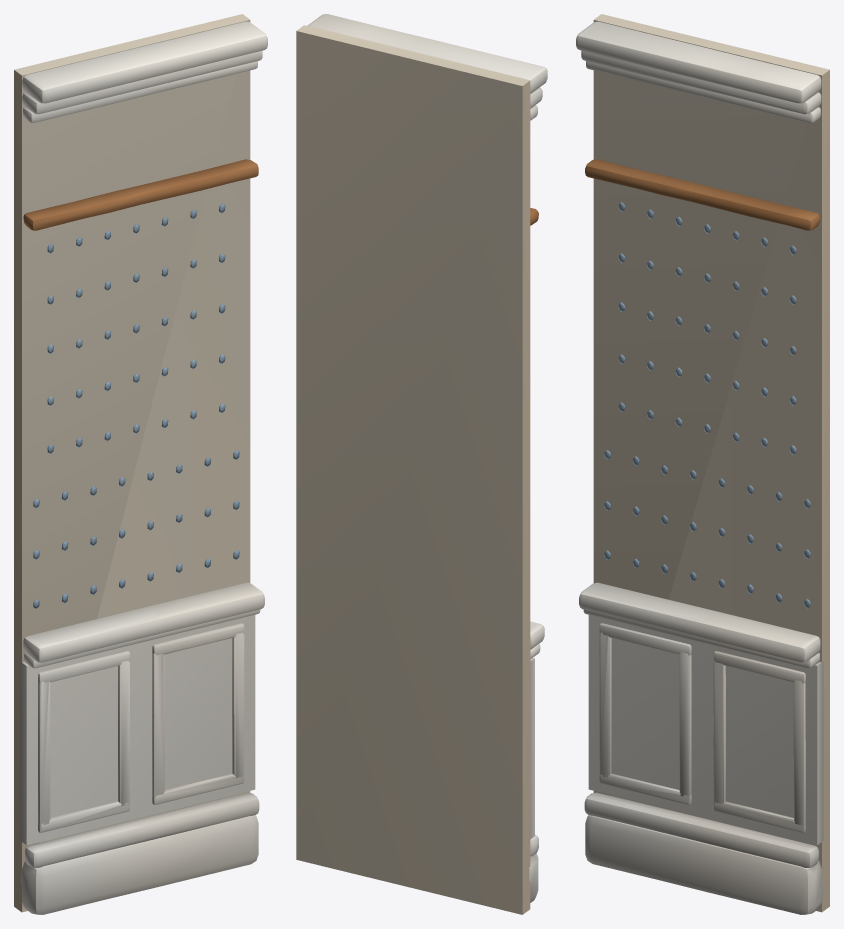
The model's file is frost_wall_panel_lod1.glb.
3 views of the same model, side by side, from view 1: azimuth 30°, elevation 25°; view 2: azimuth 150°, elevation 25°; view 3: azimuth 330°, elevation 25° (orthographic).
Visible parts, largest first — view 1: frost_wall_panel.001; view 2: frost_wall_panel.001; view 3: frost_wall_panel.001.
Boxes of the visible parts, x1=… form: frost_wall_panel.001: x1=14, y1=14, x2=267, y2=914; frost_wall_panel.001: x1=296, y1=14, x2=547, y2=914; frost_wall_panel.001: x1=576, y1=14, x2=829, y2=914.
Size of the model in its own units: 20.04 by 70.02 by 4.2.
